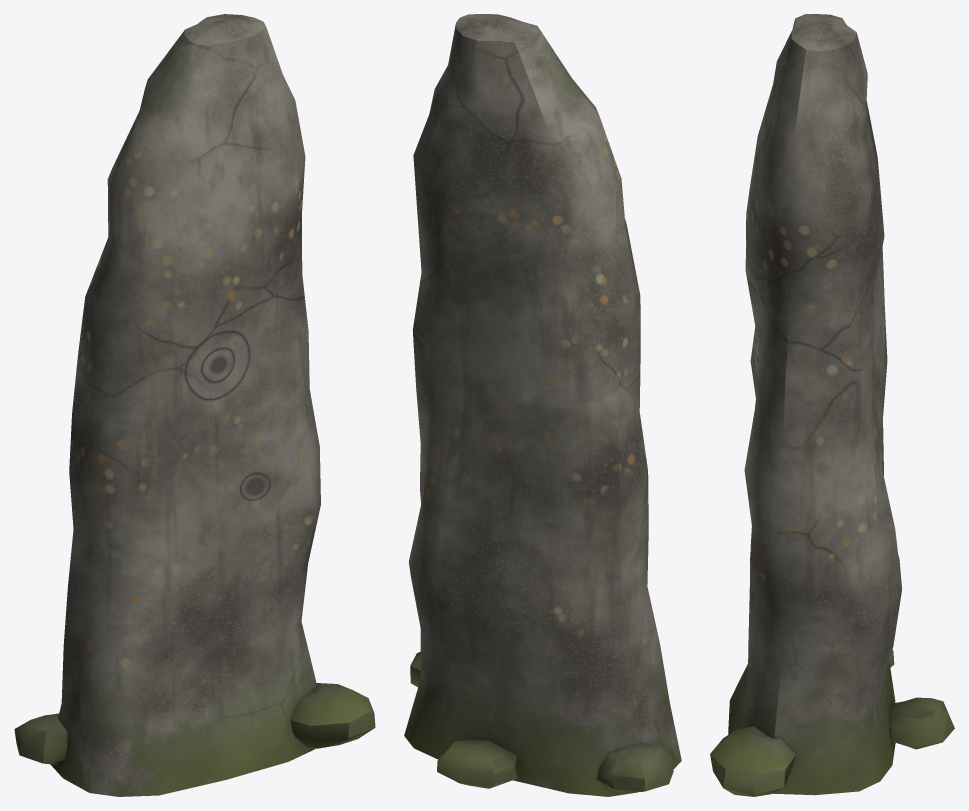
Rendered from fm_standing_stone.glb.
The picture shows the model from 3 angles, left to right: view 1: azimuth 30°, elevation 25°; view 2: azimuth 150°, elevation 25°; view 3: azimuth 270°, elevation 25°; orthographic projection. The views are drawn at different scales.
Visible parts, largest first — view 1: fm_standing_stone; view 2: fm_standing_stone; view 3: fm_standing_stone.
Part boxes in pixels (left/top/right/bottom): fm_standing_stone: left=14, top=14, right=375, bottom=796; fm_standing_stone: left=404, top=14, right=681, bottom=796; fm_standing_stone: left=710, top=14, right=954, bottom=796.
Bounding box in the file's own units: 1.07 × 2.39 × 0.725.
1 material, 1 textured.
